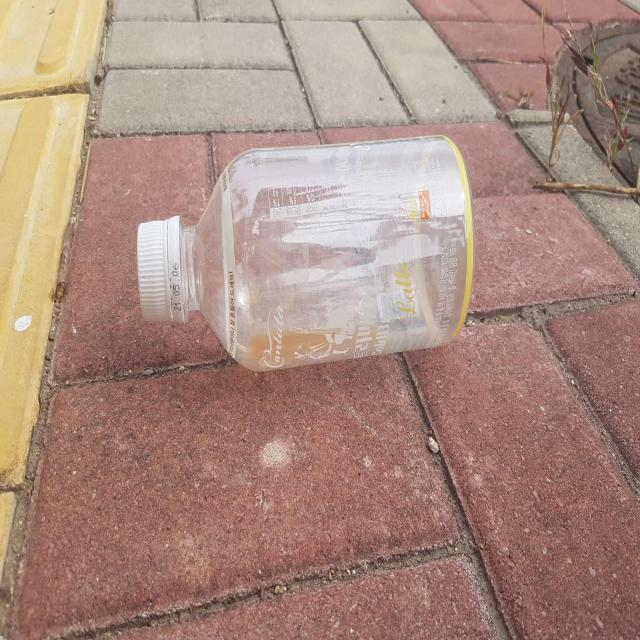plastic: (136, 135, 474, 370)
